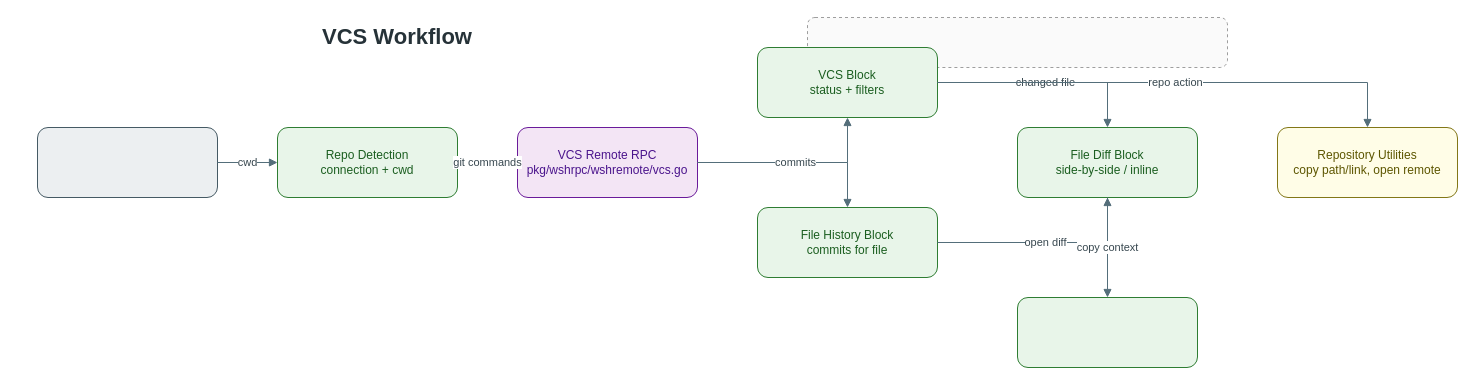
Some shapes in this 1475 by 385 pixel diagram are drawn without their labels. The shapes that lost their labels are listed below. From the top down, each one's centre as x and y in pixels, then its label:
At (x=1017, y=42): "Repository detection, status, history, commits, and visual diffs.".
At (x=127, y=162): "Working Tree local repository path".
At (x=1107, y=332): "Agent / Terminal Context commit workflow stays in terminal".
